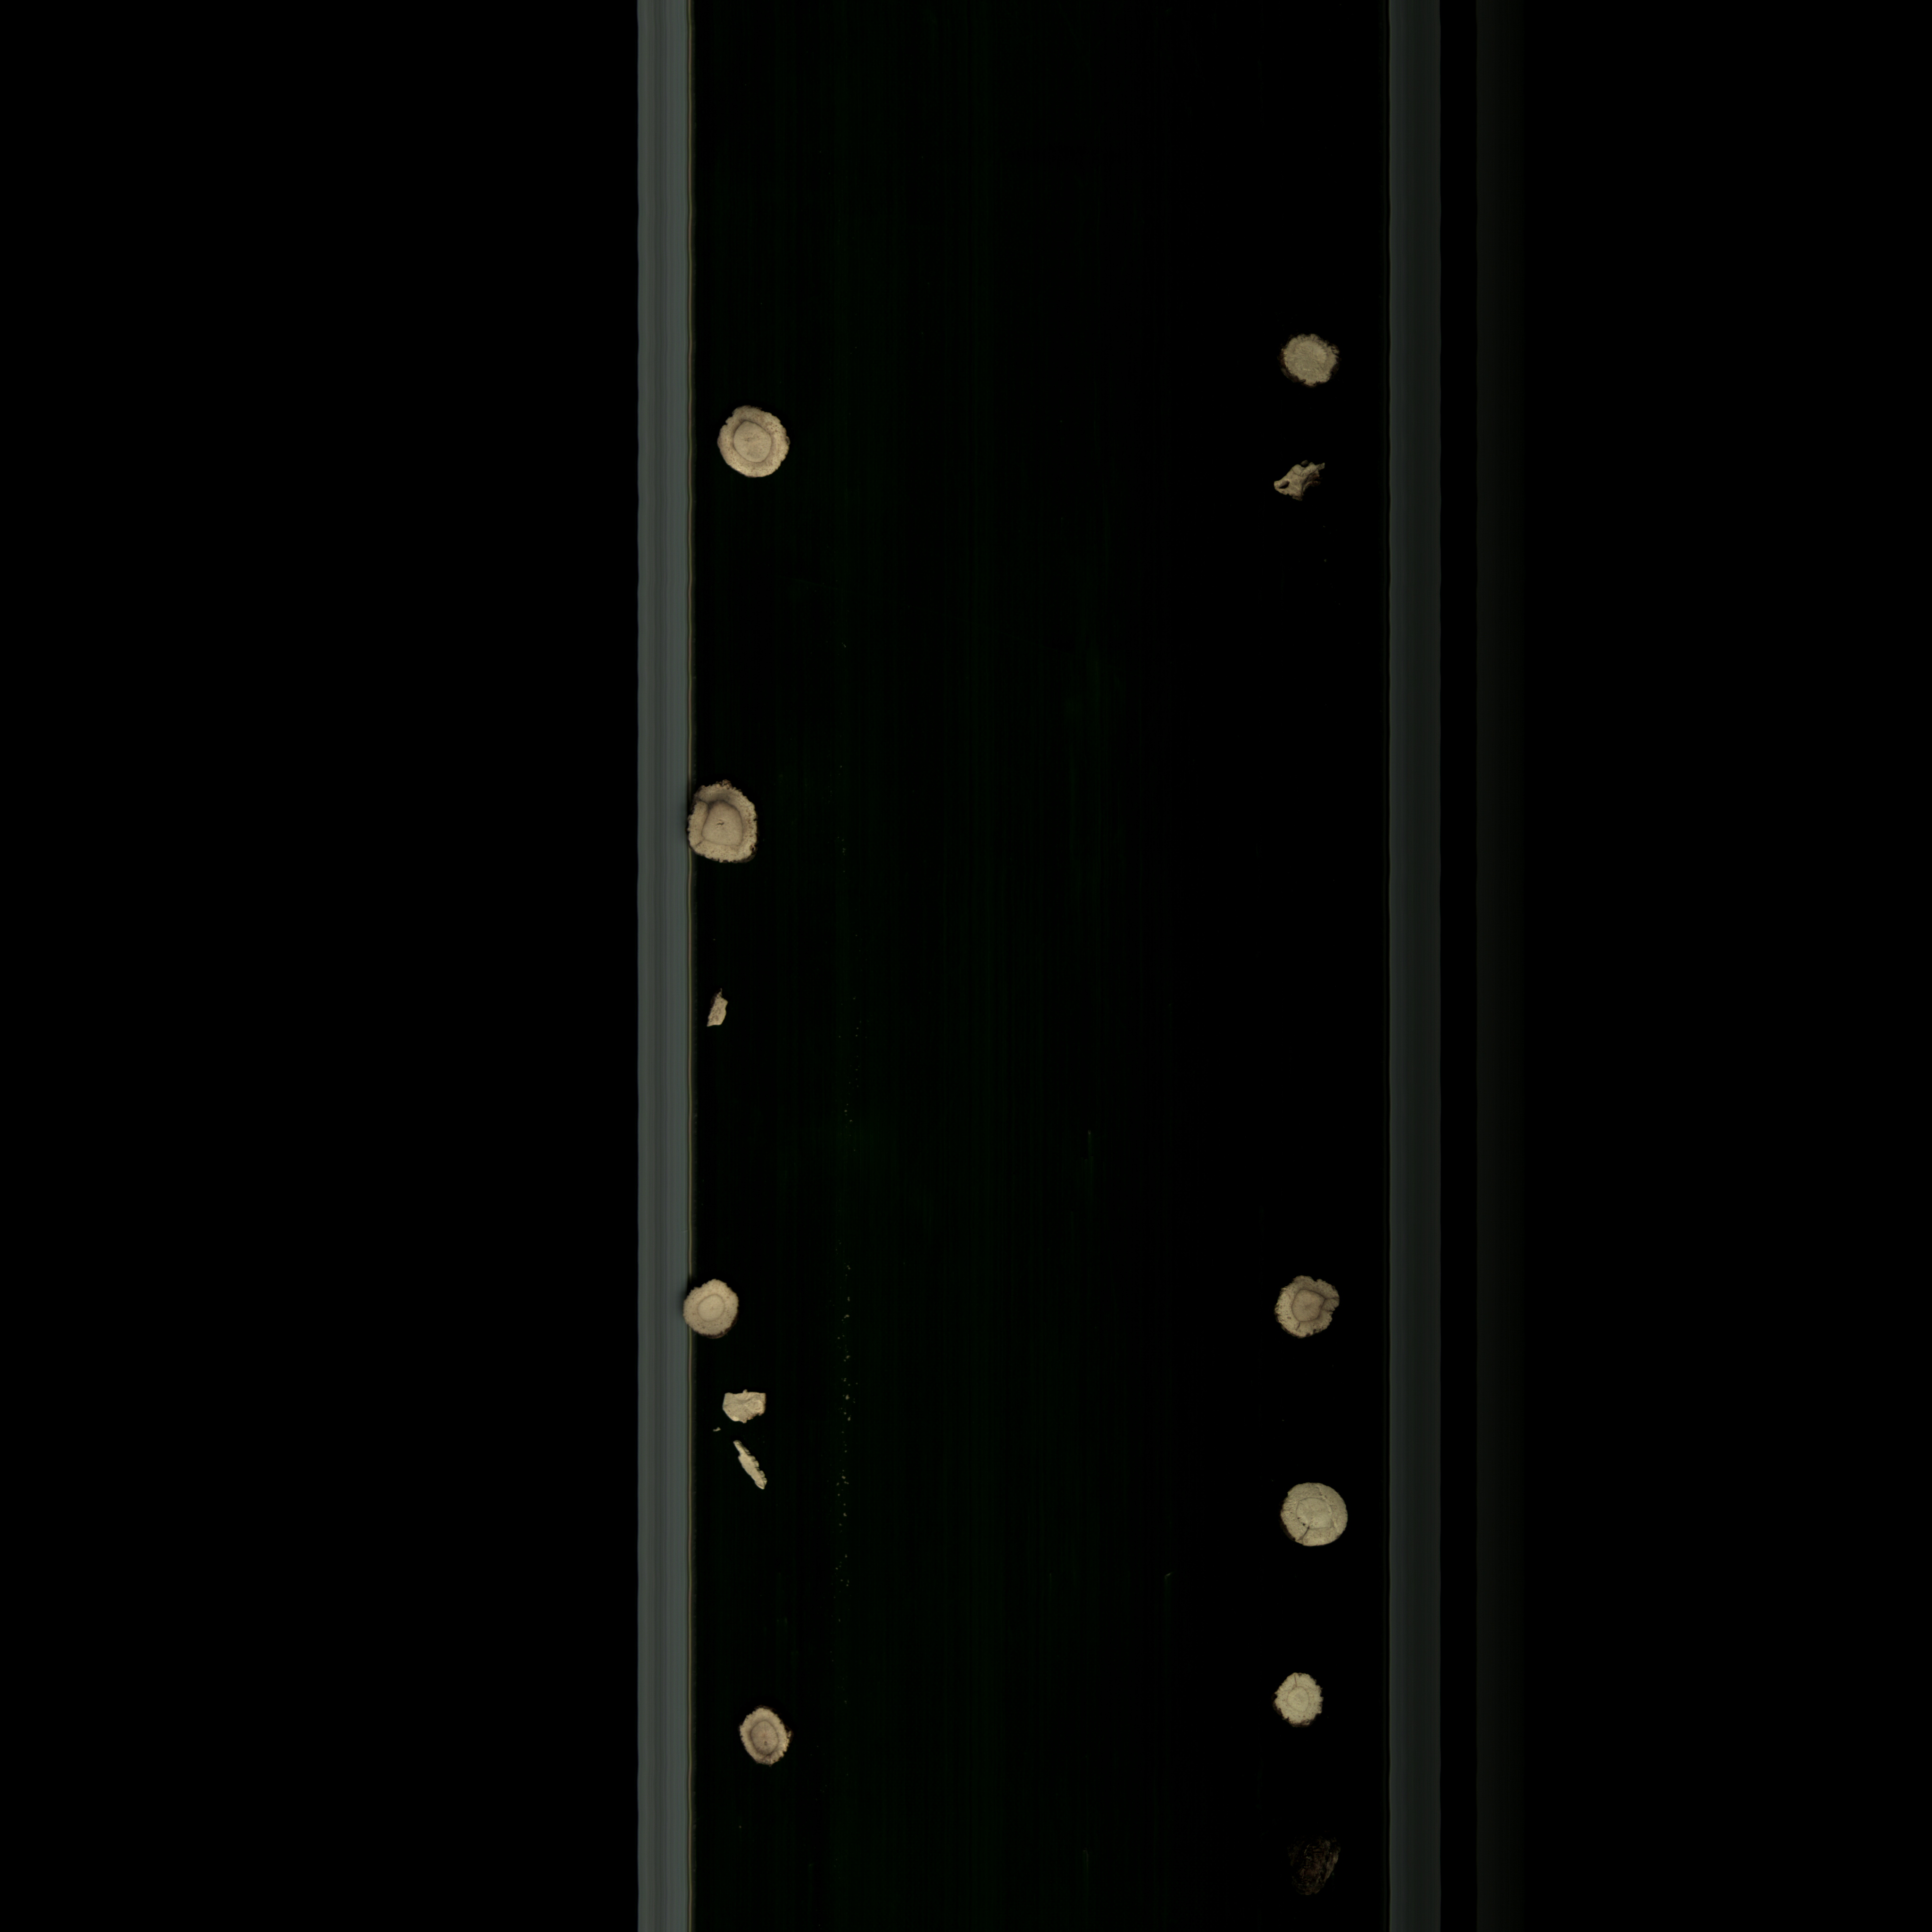bark: (1283, 1826, 1346, 1916)
dreg: (706, 1385, 793, 1426), (729, 1437, 777, 1504), (699, 987, 734, 1040)
moldy: (678, 773, 784, 872), (706, 403, 803, 488), (724, 1700, 809, 1776), (1269, 320, 1346, 400), (1272, 1270, 1353, 1346), (1265, 449, 1339, 506)
